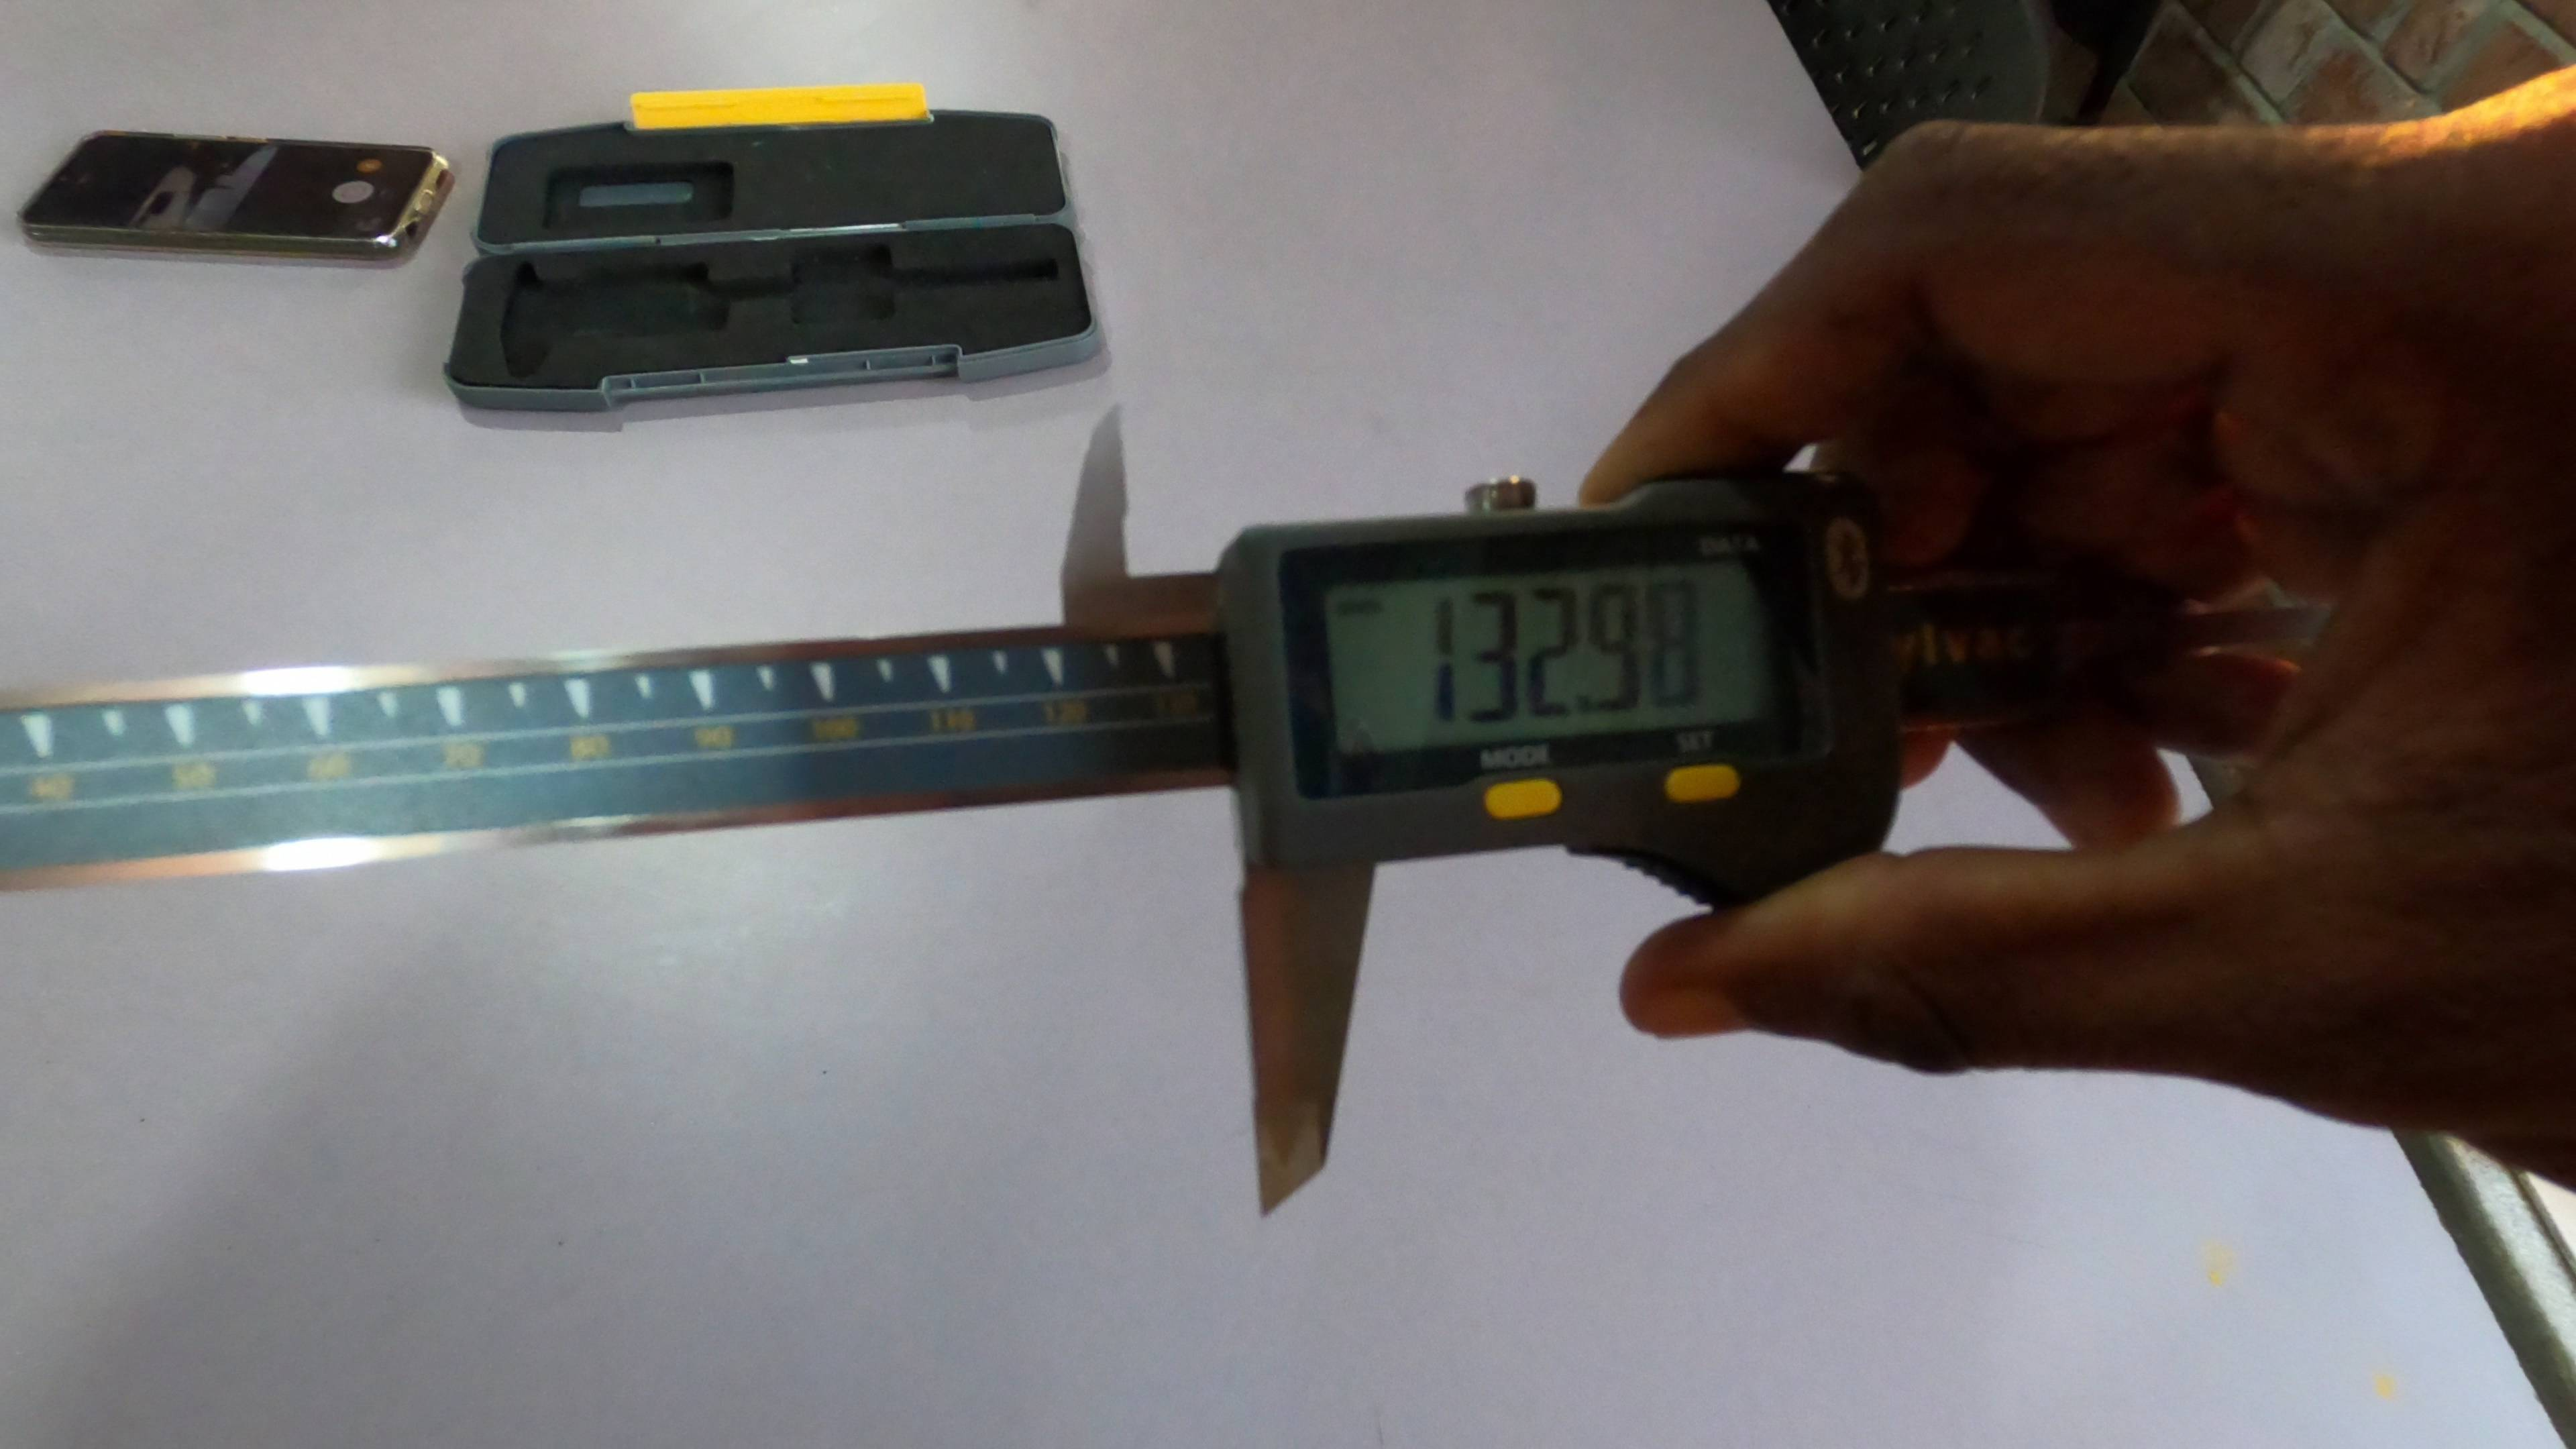vernier_caliper: (11, 375, 1966, 1253)
